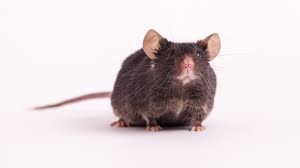mice: (28, 27, 222, 136)
